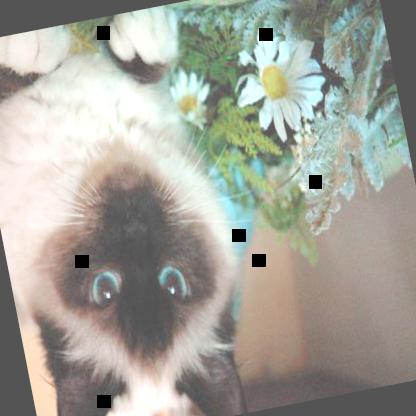cat: (0, 2, 264, 415)
